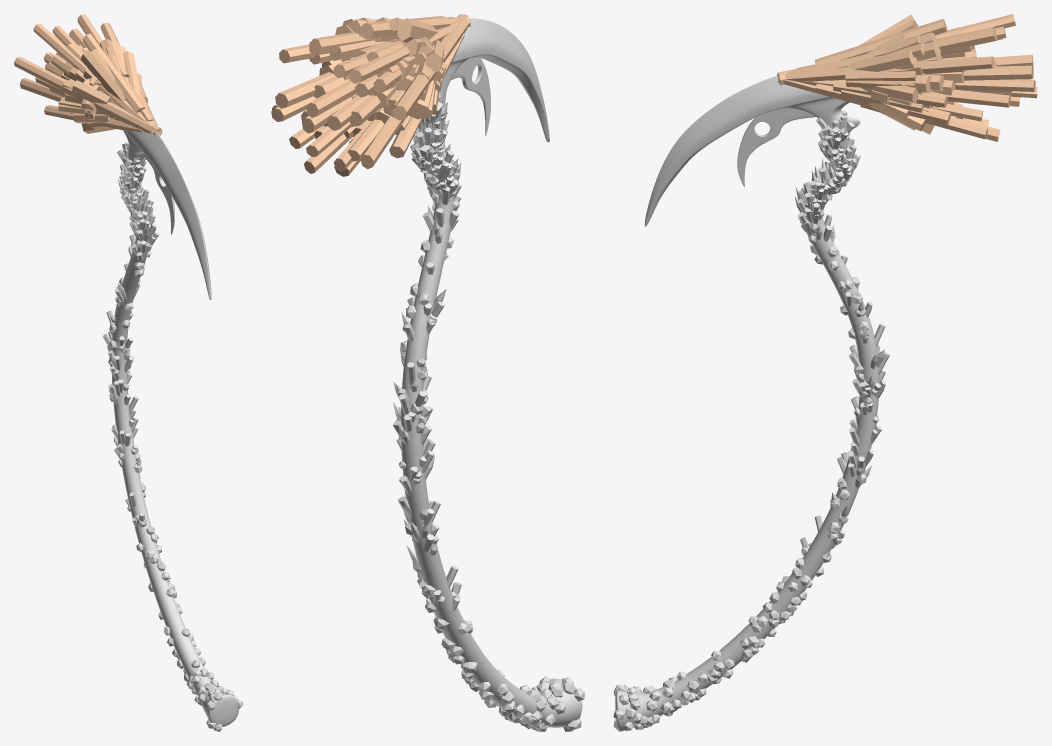
The model's file is Crystal Scythe.fbx.
3 renders of one model, left to right at view 1: azimuth 30°, elevation 25°; view 2: azimuth 150°, elevation 25°; view 3: azimuth 270°, elevation 25°, orthographic. The views are drawn at different scales.
Parts seen in each view (by area): view 1: Vert.001, Sphere, Cube, Cube.001; view 2: Vert.001, Sphere, Cube, Cube.001; view 3: Vert.001, Sphere, Cube, Cube.001.
Boxes of the visible parts, box(x1,y1,x2,y2) form: Vert.001: box(102, 142, 242, 731); Sphere: box(14, 14, 162, 135); Cube: box(122, 130, 211, 299); Cube.001: box(140, 153, 174, 234); Vert.001: box(393, 95, 584, 731); Sphere: box(271, 14, 470, 176); Cube: box(439, 18, 549, 142); Cube.001: box(451, 57, 490, 135); Vert.001: box(613, 110, 889, 731); Sphere: box(777, 14, 1037, 141); Cube: box(644, 75, 860, 226); Cube.001: box(737, 108, 815, 186).
Size of the model in its own units: 372 by 2272 by 1223.
